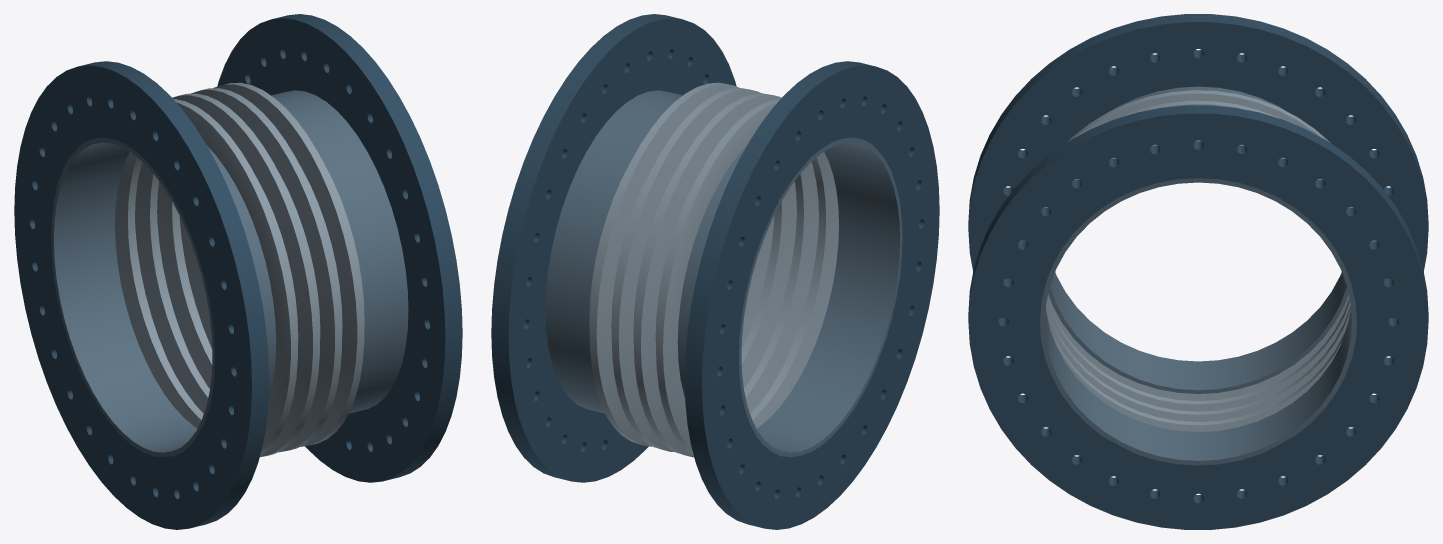
File: flan-dn1000-L742-D1000-f-o2000.glb
3 views of the same model, side by side, from view 1: azimuth 30°, elevation 25°; view 2: azimuth 150°, elevation 25°; view 3: azimuth 270°, elevation 25° (orthographic). The views are drawn at different scales.
Parts seen in each view (by area): view 1: homut_flanec_1, prokladka_silfon_1, homut_flanec_2, patrubok_1, patrubok_2; view 2: homut_flanec_1, prokladka_silfon_1, homut_flanec_2, patrubok_1, patrubok_2; view 3: homut_flanec_2, homut_flanec_1, prokladka_silfon_1, patrubok_2, patrubok_1.
Part boxes in pixels (<box>): homut_flanec_1: <box>14,61,269,529</box>; prokladka_silfon_1: <box>115,82,364,456</box>; homut_flanec_2: <box>217,14,462,482</box>; patrubok_1: <box>51,137,276,457</box>; patrubok_2: <box>271,90,408,413</box>; homut_flanec_1: <box>684,61,939,529</box>; prokladka_silfon_1: <box>589,82,838,457</box>; homut_flanec_2: <box>491,14,736,482</box>; patrubok_1: <box>677,137,902,457</box>; patrubok_2: <box>545,90,682,413</box>; homut_flanec_2: <box>968,105,1428,529</box>; homut_flanec_1: <box>968,14,1428,318</box>; prokladka_silfon_1: <box>1020,90,1376,431</box>; patrubok_2: <box>1039,178,1356,465</box>; patrubok_1: <box>1048,86,1348,393</box>.
Size of the model in its own units: 742 by 1448 by 1450.
